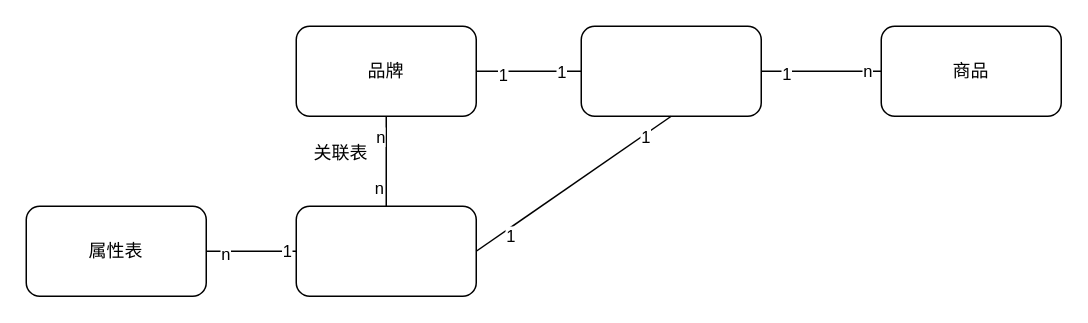
Image size: 1088x323. Some labels were removed from this diagram. Here are the shapes that lost their labels. From the top down, the centre of each, then its label:
At (670,70): "产品".
At (385,250): "分类".
